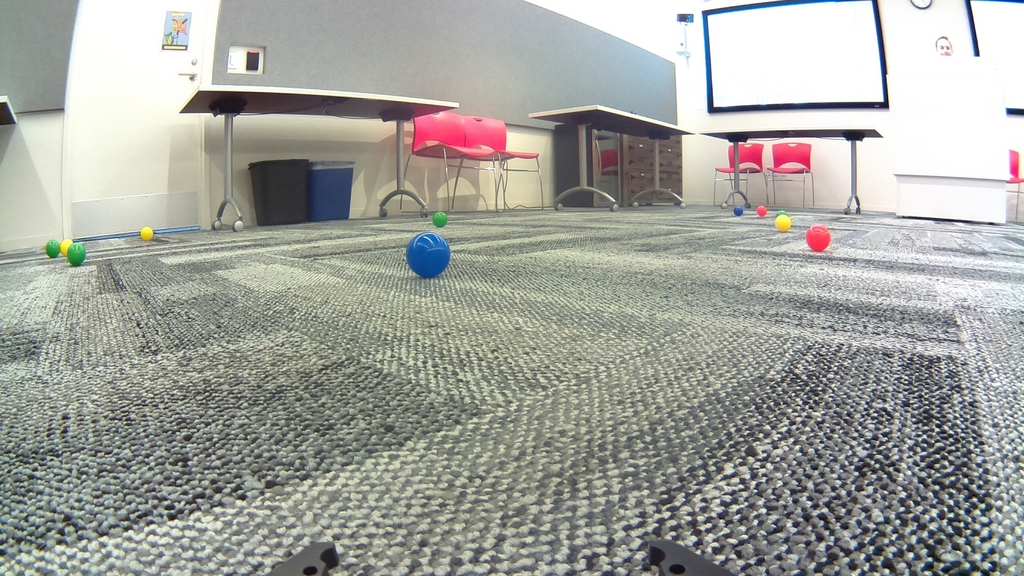ball: (141, 227, 152, 242)
